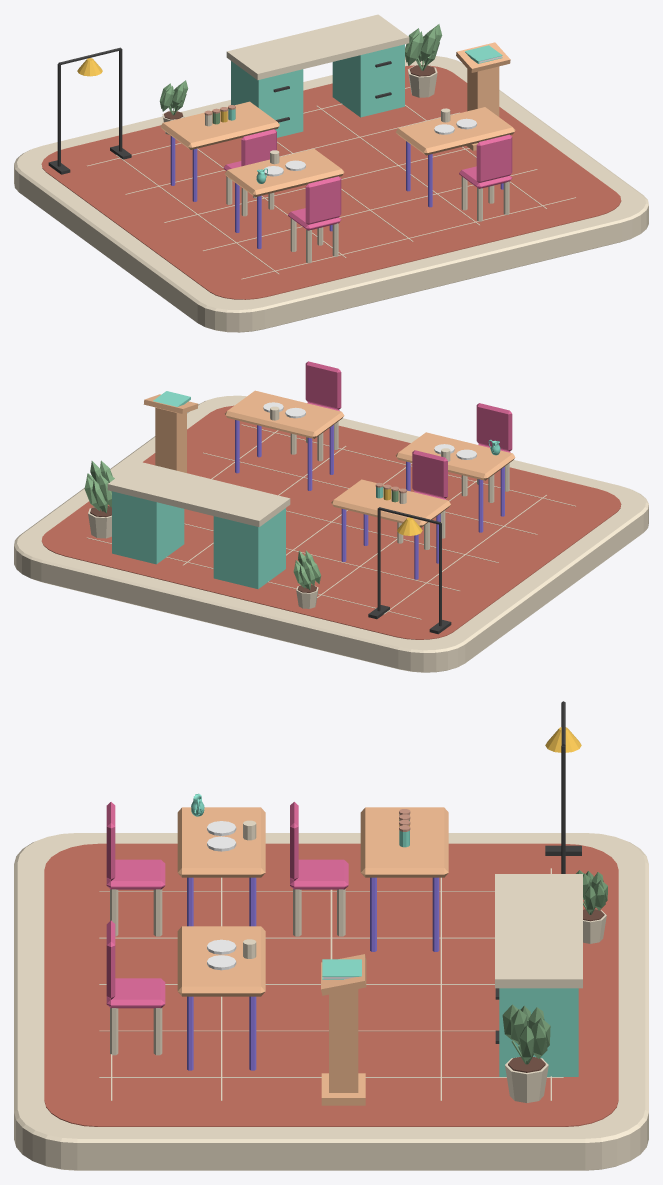
3 renders of one model, top to bottom at view 1: azimuth 30°, elevation 25°; view 2: azimuth 150°, elevation 25°; view 3: azimuth 270°, elevation 25°, orthographic. The views are drawn at different scales.
Visible parts, largest first — view 1: COM-02 Floor Surface, COM-01 Rounded Base Direct, Worktop, Storage module.001, Storage module, Rounded table top.001, Rounded table top.002, Rounded table top, Pot, Backrest, Backrest.001, Body (+3 smaller); view 2: COM-02 Floor Surface, COM-01 Rounded Base Direct, Worktop, Storage module, Storage module.001, Rounded table top.001, Rounded table top.002, Rounded table top, Body, Pot, Backrest.001, Backrest.002 (+2 smaller); view 3: COM-02 Floor Surface, COM-01 Rounded Base Direct, Worktop, Rounded table top.002, Rounded table top.001, Rounded table top, Storage module.001, Pot, Body, Seat, Seat.001, Seat.002 (+8 smaller).
Boxes of the visible parts, box(x1,y1,x2,y2) form: COM-02 Floor Surface: box(41, 65, 621, 299); COM-01 Rounded Base Direct: box(14, 56, 648, 332); Worktop: box(226, 14, 409, 80); Storage module.001: box(332, 44, 404, 117); Storage module: box(231, 61, 303, 137); Rounded table top.001: box(396, 107, 515, 155); Rounded table top.002: box(160, 101, 279, 149); Rounded table top: box(225, 149, 344, 197); Pot: box(405, 24, 442, 97); Backrest: box(305, 176, 341, 224); Backrest.001: box(476, 134, 512, 182); Body: box(467, 66, 499, 116); COM-02 Floor Surface: box(41, 405, 621, 639); COM-01 Rounded Base Direct: box(14, 395, 648, 672); Worktop: box(107, 461, 290, 527); Storage module: box(213, 508, 285, 588); Storage module.001: box(112, 491, 184, 564); Rounded table top.001: box(225, 390, 344, 438); Rounded table top.002: box(331, 479, 450, 527); Rounded table top: box(396, 432, 515, 480); Body: box(155, 407, 186, 472); Pot: box(84, 460, 114, 538); Backrest.001: box(305, 361, 341, 409); Backrest.002: box(412, 450, 447, 498); COM-02 Floor Surface: box(44, 843, 618, 1126); COM-01 Rounded Base Direct: box(14, 833, 648, 1170); Worktop: box(495, 874, 582, 988); Rounded table top.002: box(360, 807, 448, 877); Rounded table top.001: box(177, 926, 265, 996); Rounded table top: box(177, 807, 265, 877); Storage module.001: box(499, 988, 578, 1076); Pot: box(502, 1004, 550, 1102); Body: box(329, 989, 358, 1092); Seat: box(106, 859, 165, 889); Seat.001: box(106, 978, 165, 1008); Seat.002: box(290, 859, 348, 889).
Size of the model in its own units: 6 by 1.66 by 5.2.
Materials: 1 (1 with a texture image).
